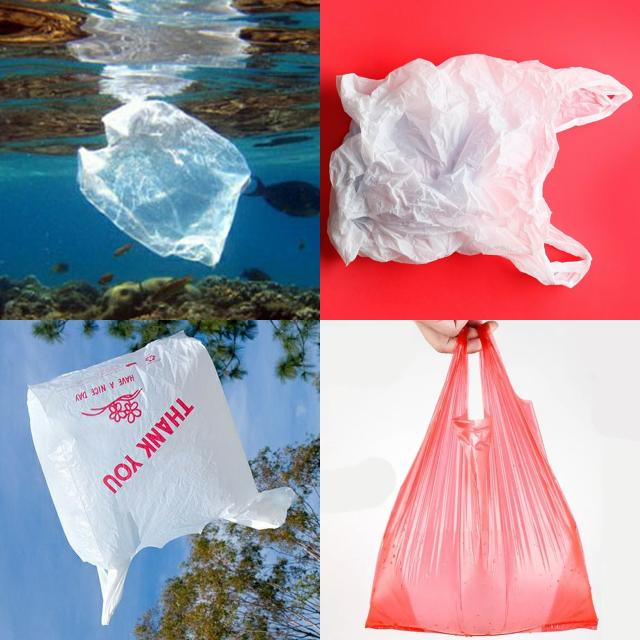Single-layer Plastic: (28, 334, 294, 625), (366, 325, 596, 635), (328, 54, 631, 288), (78, 99, 250, 266)
